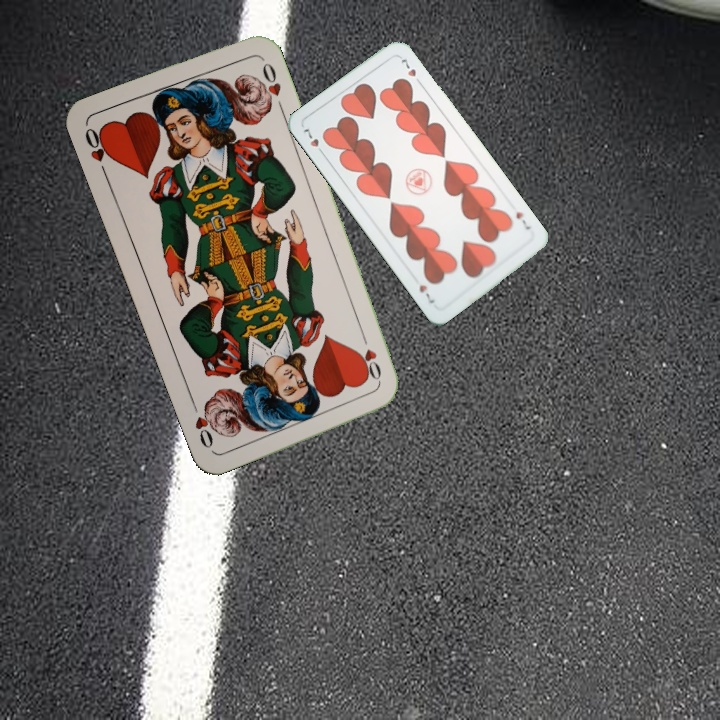H7: (299, 124, 327, 159), (512, 208, 533, 232)
HO: (81, 123, 115, 180), (357, 328, 384, 386)
